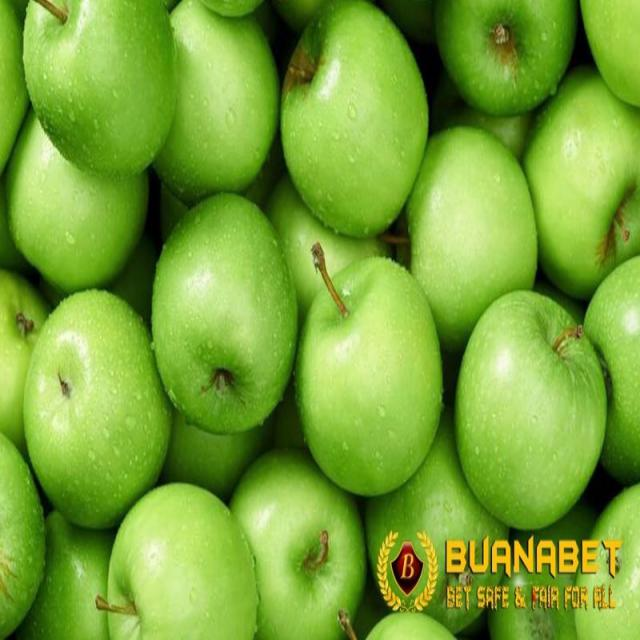Fresh Apple: (450, 290, 605, 532), (151, 193, 298, 433), (296, 258, 440, 494), (24, 287, 162, 528), (282, 3, 423, 230), (404, 125, 535, 337), (8, 106, 148, 289), (22, 0, 173, 167), (530, 73, 639, 292), (230, 456, 359, 639), (106, 481, 252, 639), (162, 2, 274, 206), (432, 0, 579, 112), (587, 253, 639, 469), (577, 0, 639, 102)
